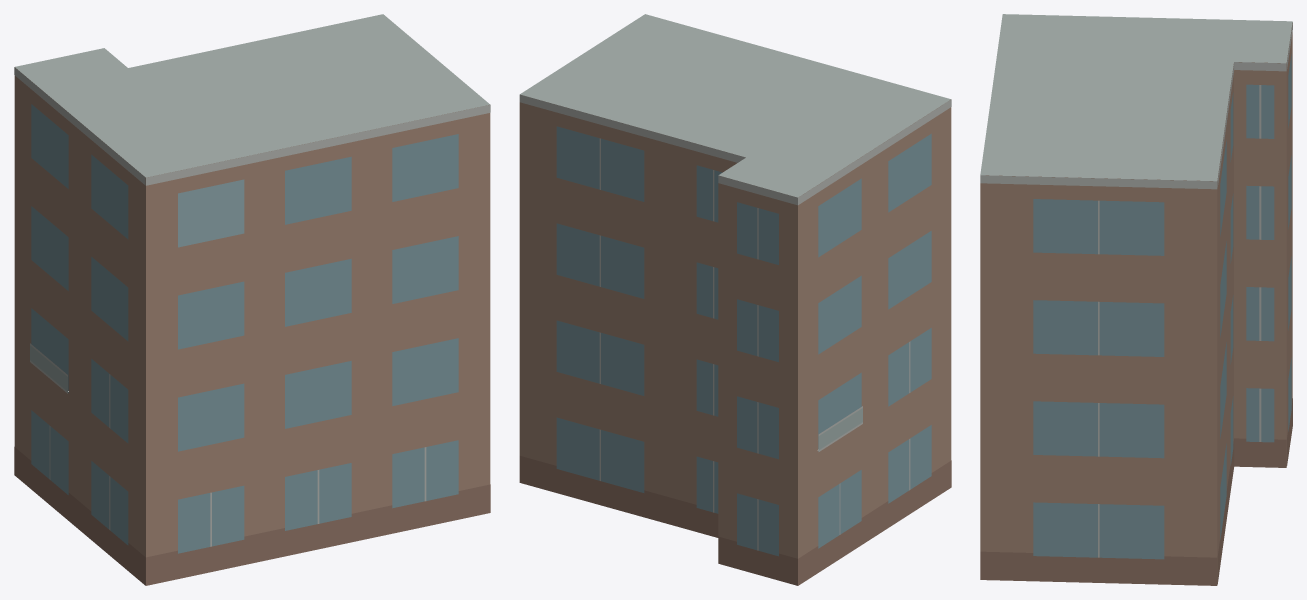
Rendered from residential-2f4b1d27-f857-42d3-a5a8-2e42b133c683.glb.
3 renders of one model, left to right at view 1: azimuth 30°, elevation 25°; view 2: azimuth 150°, elevation 25°; view 3: azimuth 270°, elevation 25°, orthographic. The views are drawn at different scales.
Parts seen in each view (by area): view 1: residential-2f4b1d27-f857-42d3-a5a8-2e42b133c683.tmp; view 2: residential-2f4b1d27-f857-42d3-a5a8-2e42b133c683.tmp; view 3: residential-2f4b1d27-f857-42d3-a5a8-2e42b133c683.tmp.
Part boxes in pixels (x1,y1,x2,y2): residential-2f4b1d27-f857-42d3-a5a8-2e42b133c683.tmp: [14, 14, 490, 585]; residential-2f4b1d27-f857-42d3-a5a8-2e42b133c683.tmp: [519, 14, 951, 585]; residential-2f4b1d27-f857-42d3-a5a8-2e42b133c683.tmp: [980, 14, 1292, 585].
Size of the model in its own units: 10.82 by 12.2 by 8.55.
